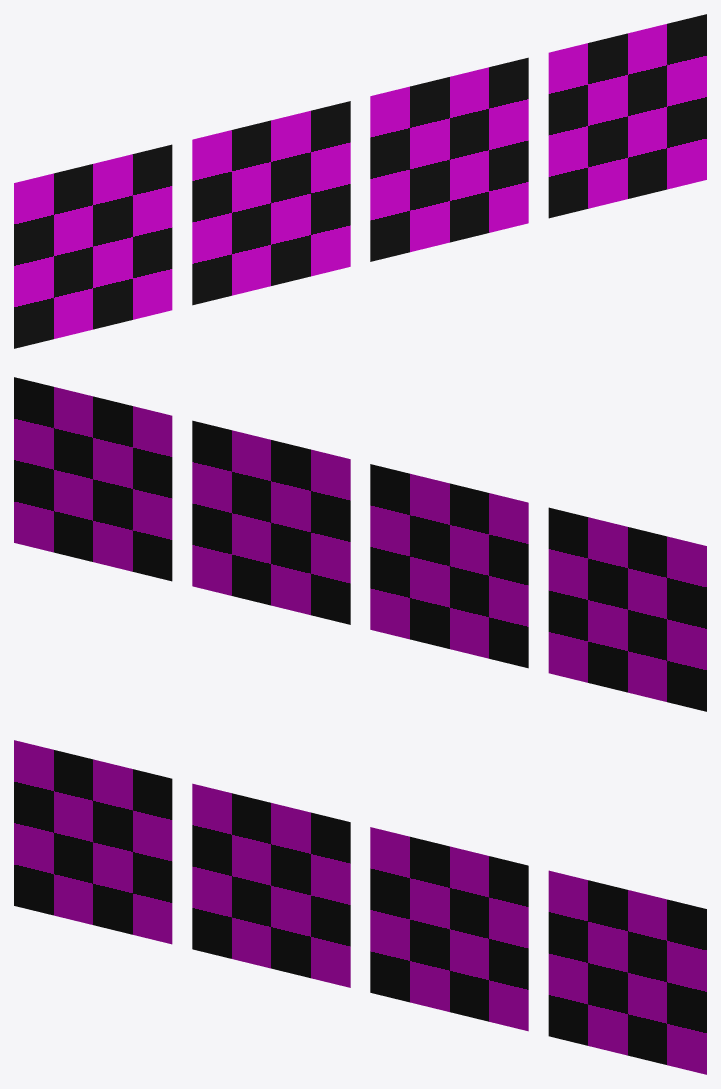
File: shared_material.glb
3 renders of one model, top to bottom at view 1: azimuth 30°, elevation 25°; view 2: azimuth 150°, elevation 25°; view 3: azimuth 330°, elevation 25°, orthographic.
Parts seen in each view (by area): view 1: piece_1, piece_2, piece_0, piece_3; view 2: piece_1, piece_2, piece_0, piece_3; view 3: piece_1, piece_2, piece_0, piece_3.
Part boxes in pixels (x1=…): piece_1: x1=192, y1=101, x2=350, y2=305; piece_2: x1=370, y1=57, x2=528, y2=261; piece_0: x1=14, y1=144, x2=172, y2=348; piece_3: x1=548, y1=14, x2=706, y2=218; piece_1: x1=370, y1=464, x2=528, y2=668; piece_2: x1=192, y1=420, x2=350, y2=624; piece_0: x1=548, y1=507, x2=706, y2=711; piece_3: x1=14, y1=377, x2=172, y2=581; piece_1: x1=192, y1=783, x2=350, y2=987; piece_2: x1=370, y1=827, x2=528, y2=1031; piece_0: x1=14, y1=740, x2=172, y2=944; piece_3: x1=548, y1=870, x2=706, y2=1074.
Bounding box in the file's own units: 3.5 × 0.8 × 0.
1 material, 1 textured.
